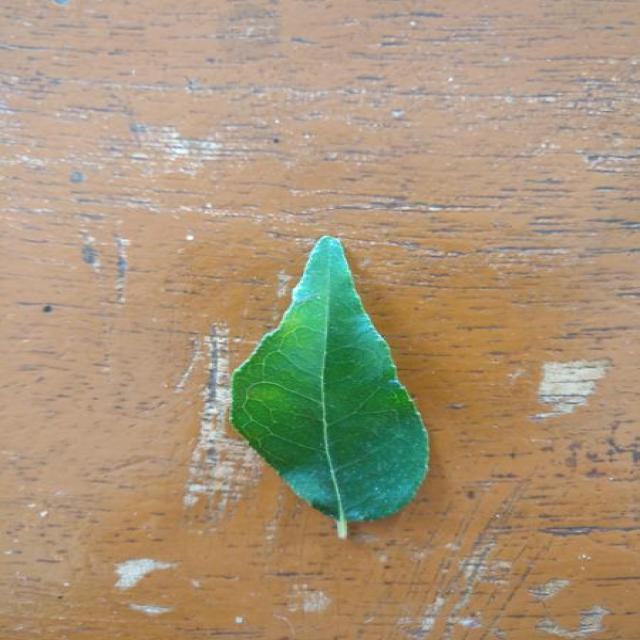curry: (230, 236, 428, 538)
